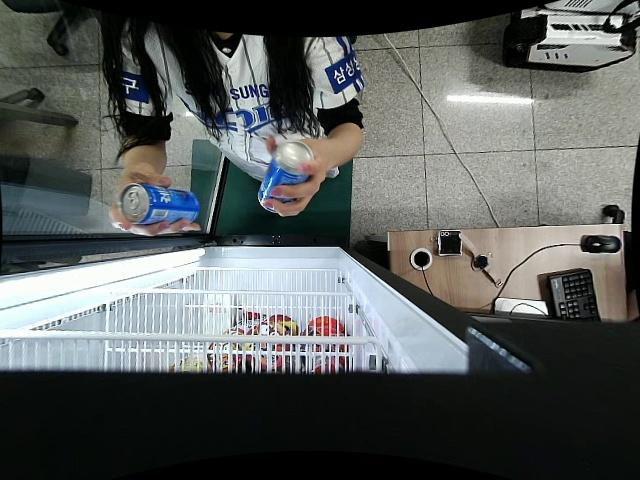00_hand: (107, 172, 202, 237), (263, 135, 325, 217)
15_letsbe: (257, 142, 314, 213), (119, 183, 201, 229)
